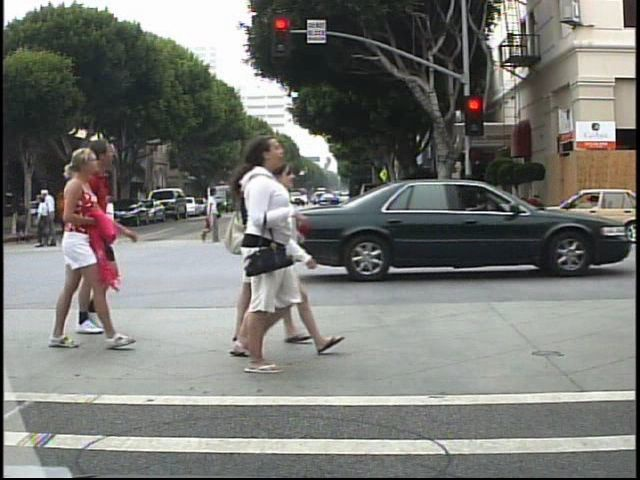person: (222, 136, 308, 379), (265, 159, 341, 372), (219, 147, 296, 354), (42, 146, 110, 354), (84, 139, 126, 336), (371, 177, 399, 240), (197, 184, 222, 247), (261, 184, 284, 242), (43, 186, 60, 246), (356, 187, 372, 223), (31, 193, 38, 249)
